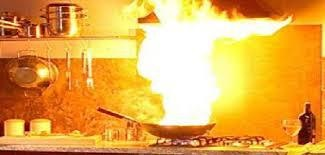fire: (125, 1, 290, 129)
